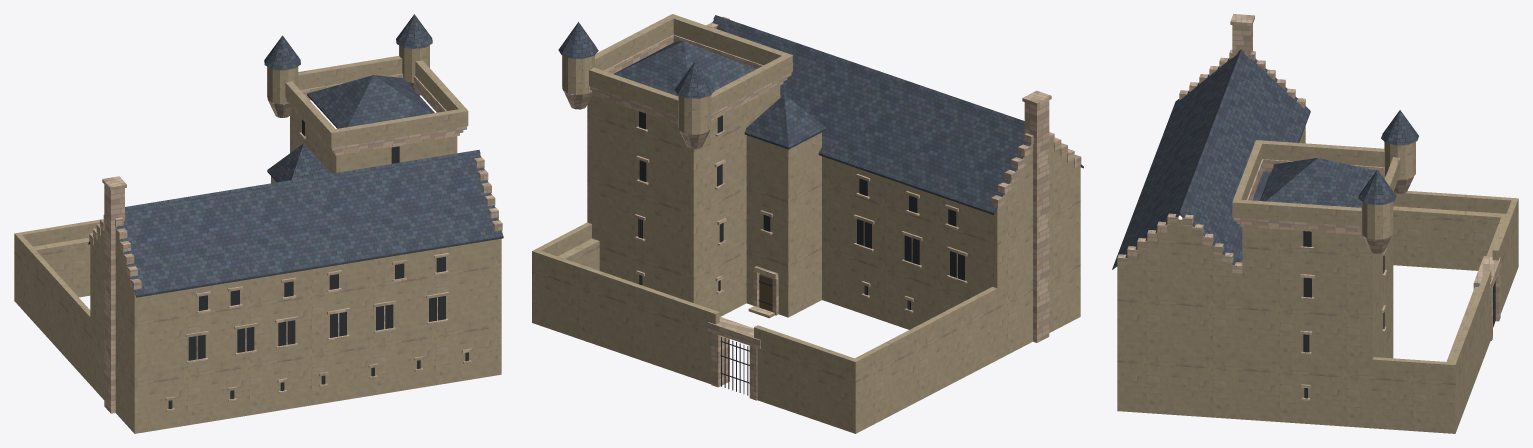
The picture shows the model from 3 angles, left to right: view 1: azimuth 30°, elevation 25°; view 2: azimuth 150°, elevation 25°; view 3: azimuth 270°, elevation 25°; orthographic projection. The views are drawn at different scales.
Parts seen in each view (by area): view 1: house_wall, house_slate, house_dressed, house_glass; view 2: house_wall, house_slate, house_dressed, house_glass, house_iron; view 3: house_wall, house_slate, house_dressed, house_glass.
Part boxes in pixels (box(x1,y1,x2,y2)): house_wall: box(14, 45, 501, 433); house_slate: box(88, 14, 503, 297); house_dressed: box(89, 73, 502, 413); house_glass: box(168, 119, 468, 408); house_wall: box(532, 14, 1080, 433); house_slate: box(558, 15, 1083, 214); house_dressed: box(562, 16, 1081, 400); house_glass: box(638, 111, 964, 309); house_iron: box(639, 219, 909, 395); house_wall: box(1117, 126, 1518, 433); house_slate: box(1112, 49, 1418, 277); house_dressed: box(1117, 14, 1501, 400); house_glass: box(1303, 231, 1384, 398).
Size of the model in its own units: 27.38 by 17.1 by 24.05.
Materials: 6 (3 with a texture image).
